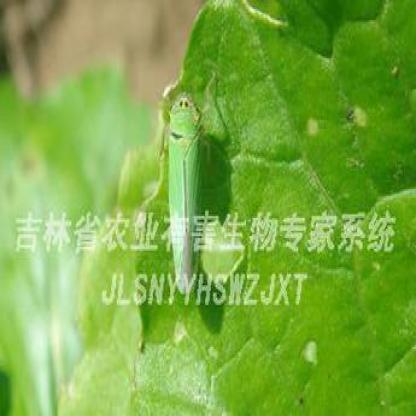Green-Leafhopper: (145, 80, 216, 298)
